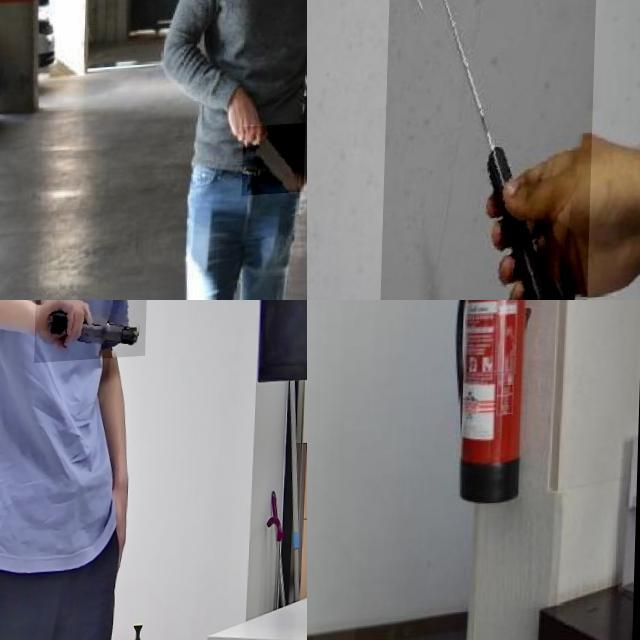-: (382, 0, 597, 300), (243, 127, 307, 199), (307, 514, 343, 551)
gun-knife-thesis - v11 Yolov5 augmented: (35, 300, 147, 367)
